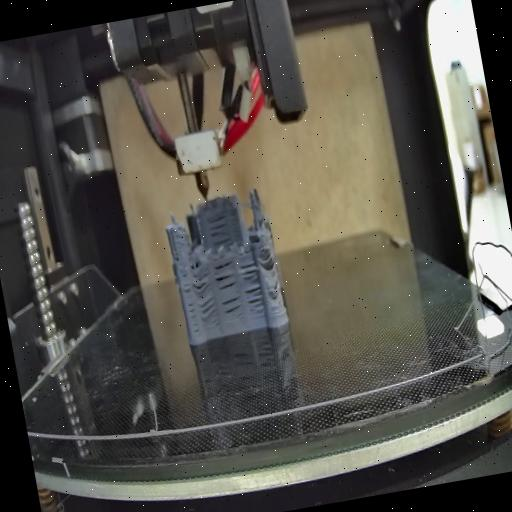cracks: (180, 273, 200, 334), (204, 210, 234, 250), (211, 258, 239, 292), (242, 285, 266, 320), (236, 253, 260, 285), (190, 268, 214, 294), (196, 296, 218, 322), (222, 295, 243, 322), (262, 248, 277, 268), (269, 276, 283, 295), (172, 246, 180, 264)
